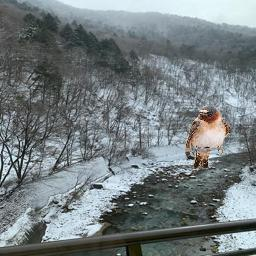Swallow: (185, 105, 230, 169)
